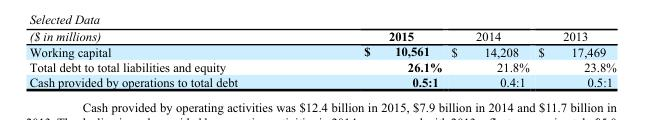table: (28, 28, 615, 88)
table column: (28, 28, 300, 88), (300, 28, 445, 88), (445, 28, 533, 88), (533, 28, 615, 88)
table column header: (28, 28, 615, 43)
table row: (28, 28, 615, 43), (28, 43, 615, 58), (28, 58, 615, 73), (28, 73, 615, 88)
